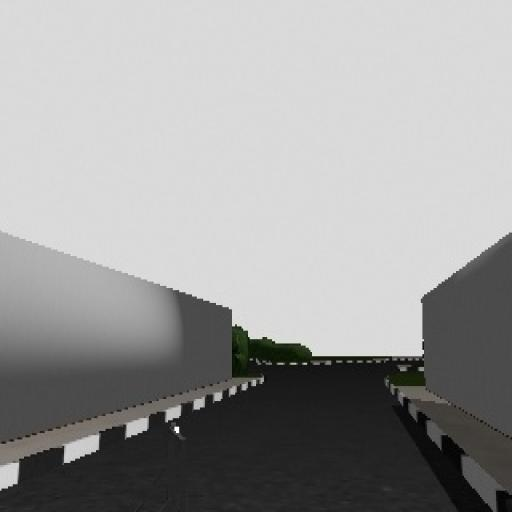huskya200: (122, 409, 218, 512)
